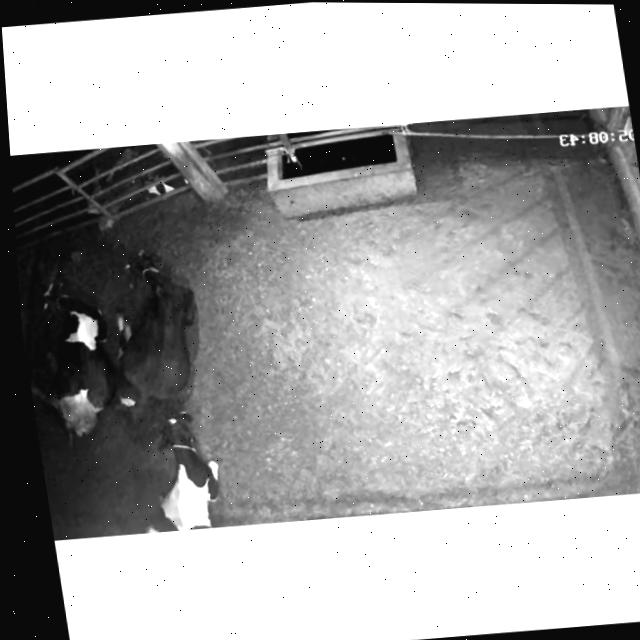lay: (91, 221, 231, 422), (14, 208, 125, 451)
